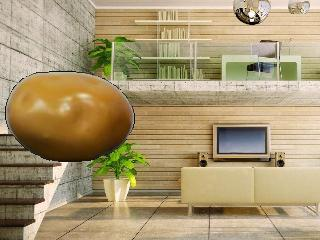potato: (2, 66, 138, 164)
